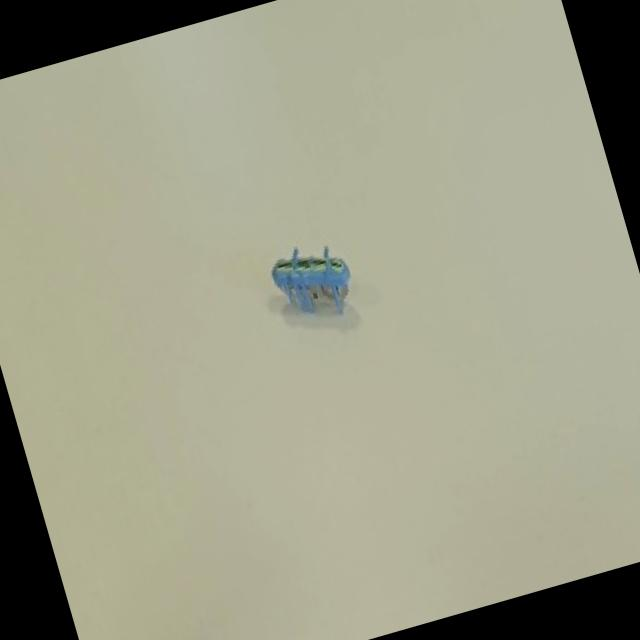3_NanoBug_Celeste: (240, 198, 398, 348)
